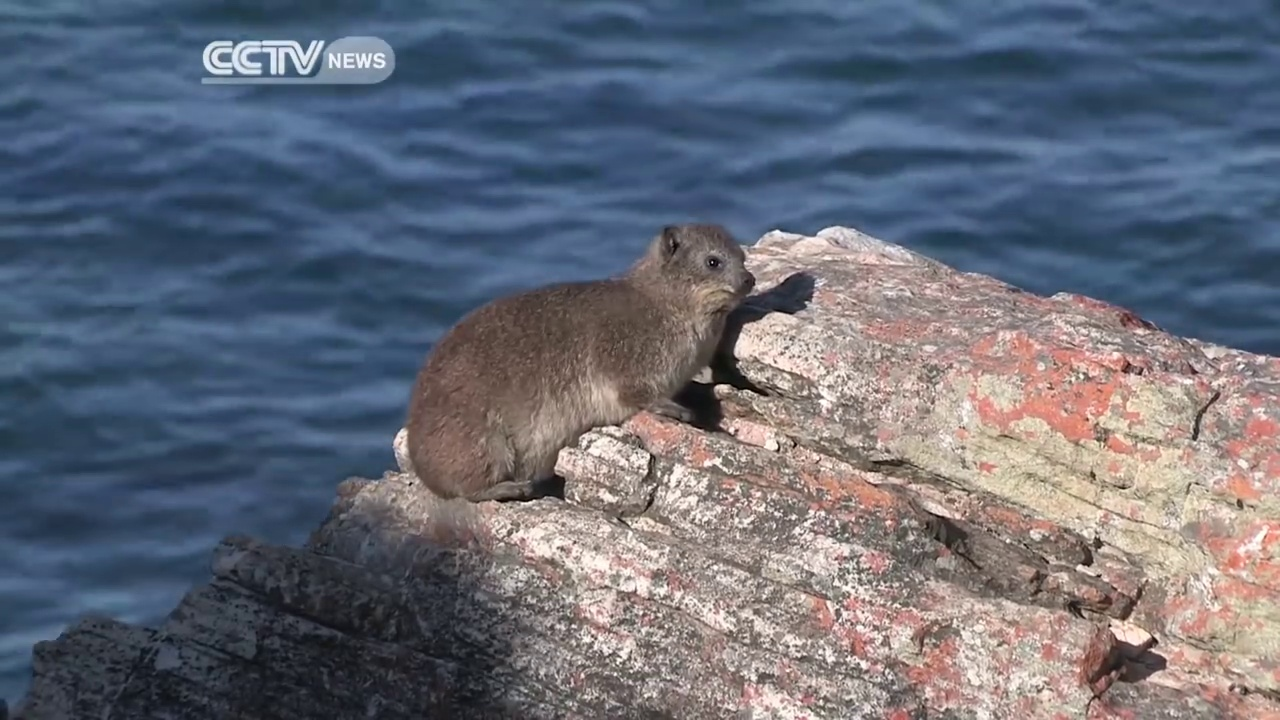Rock Hyrex: (413, 220, 763, 499)
